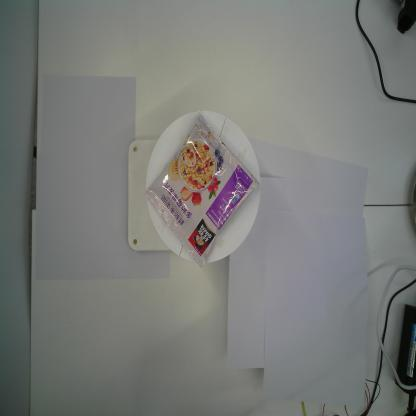Instant Drink: (144, 113, 262, 269)
